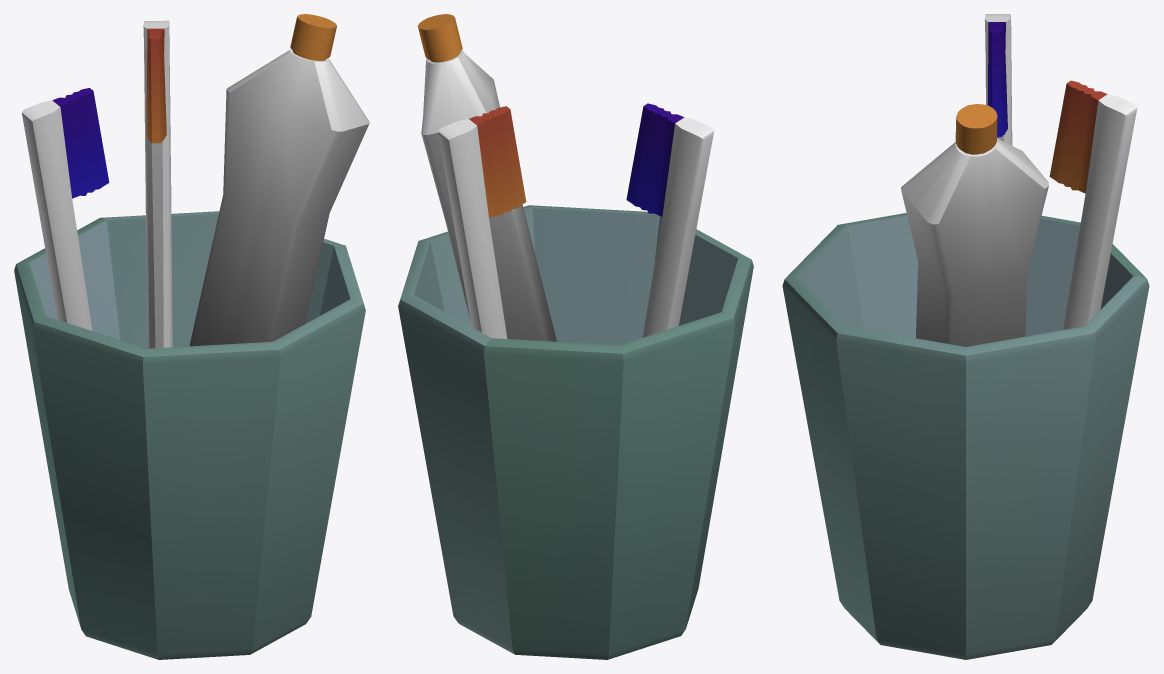
The model's file is sp_glass_bathroom_a.fbx.
3 views of the same model, side by side, from view 1: azimuth 30°, elevation 25°; view 2: azimuth 150°, elevation 25°; view 3: azimuth 270°, elevation 25° (orthographic).
Visible parts, largest first — view 1: sp_glass_bathroom_a; view 2: sp_glass_bathroom_a; view 3: sp_glass_bathroom_a.
Part boxes in pixels (x1,y1,x2,y2): sp_glass_bathroom_a: (14, 14, 369, 659); sp_glass_bathroom_a: (398, 14, 753, 659); sp_glass_bathroom_a: (782, 14, 1149, 659).
Bounding box in the file's own units: 27.15 × 45.6 × 26.68.
